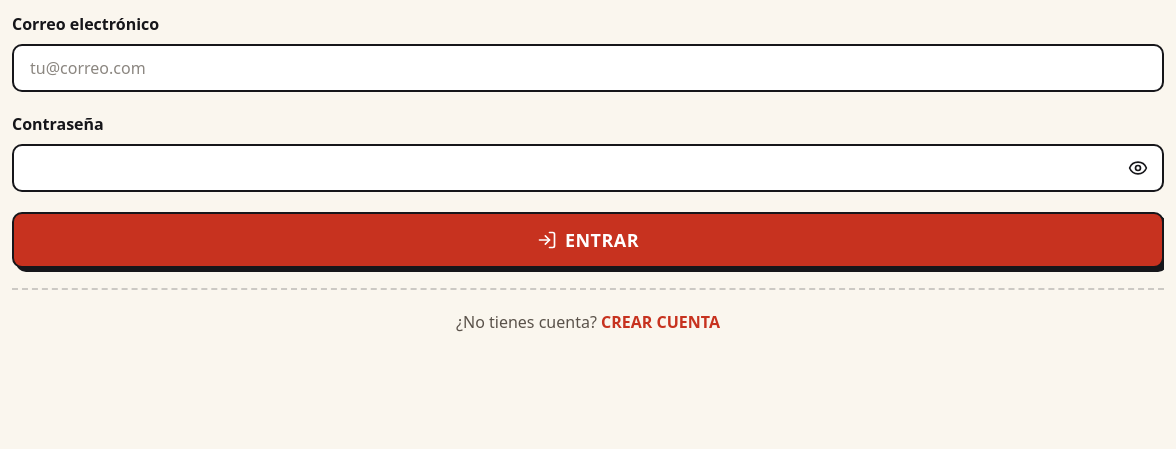
it: LoginForm › avisa cuanto esperar tras demasiados intentos
In the field labelled "Correo electrónico": (588, 68) [12, 44, 1164, 92], type "ana@example.com"
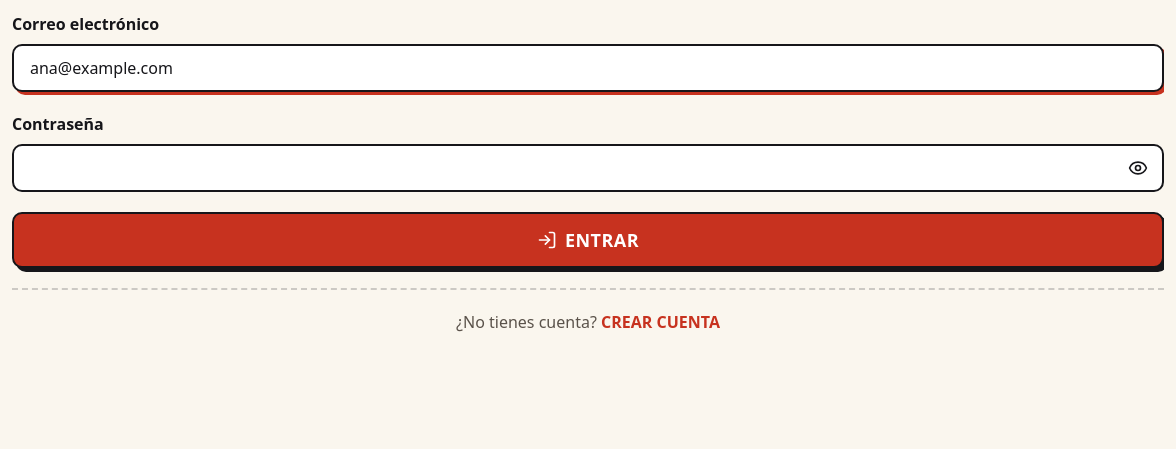
In the password field labelled "Contraseña": (588, 168) [12, 144, 1164, 192], type "clave segura 1"
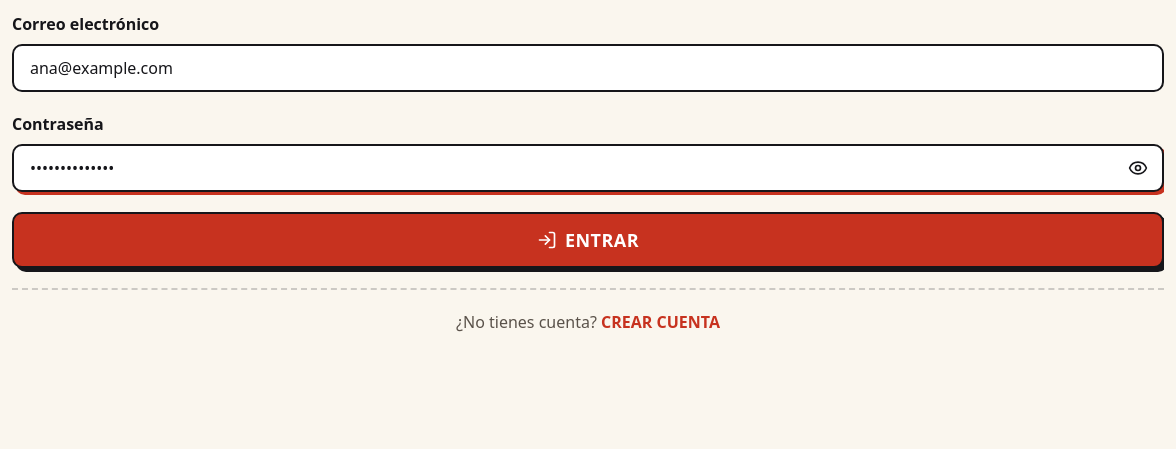
Click the button "Entrar": (588, 240) [12, 212, 1164, 268]
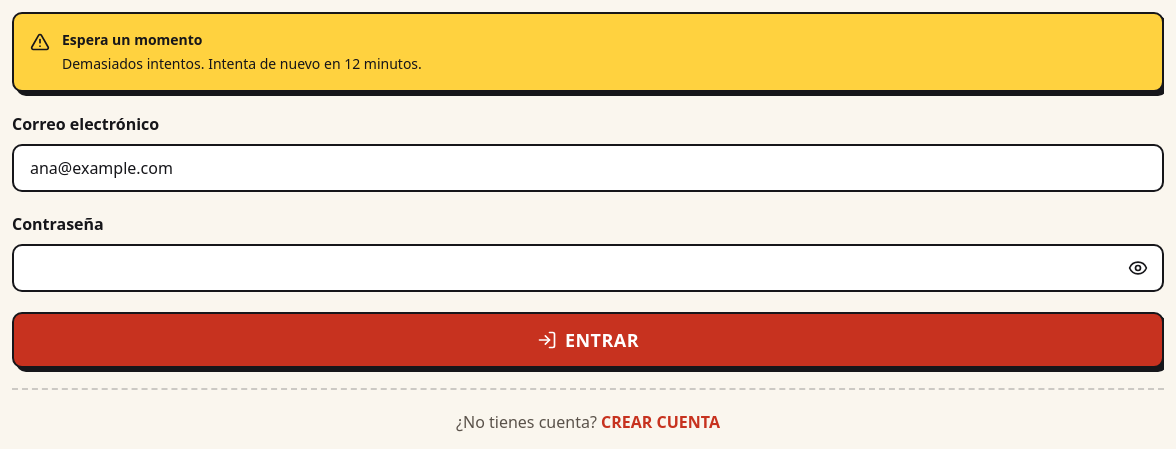
Result: the text "Demasiados intentos. Intenta de nuevo en 12 minutos." is shown at [62, 54, 422, 74]
